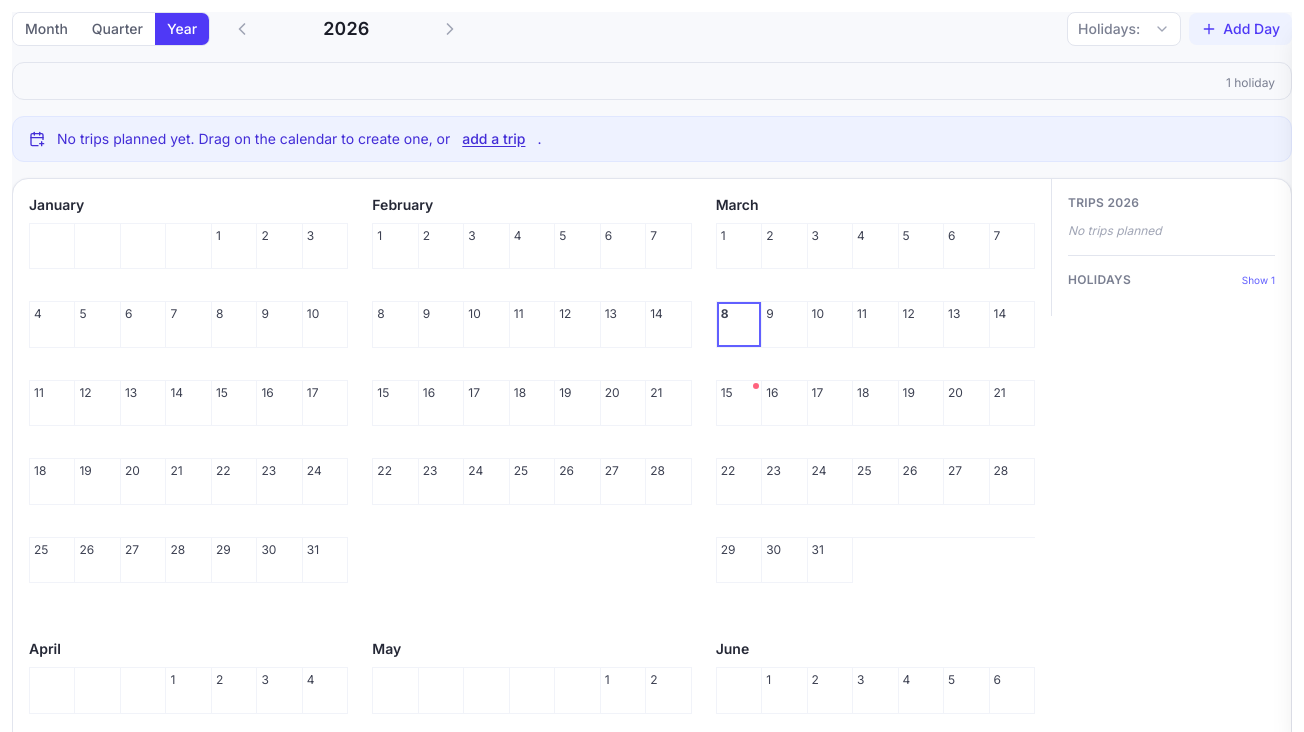
it: PlanningCenterPage › clicking a holiday day opens holiday detail sidebar
The image size is (1304, 732).
Click the button "Quarter": {"x": 117, "y": 29} [80, 13, 155, 45]
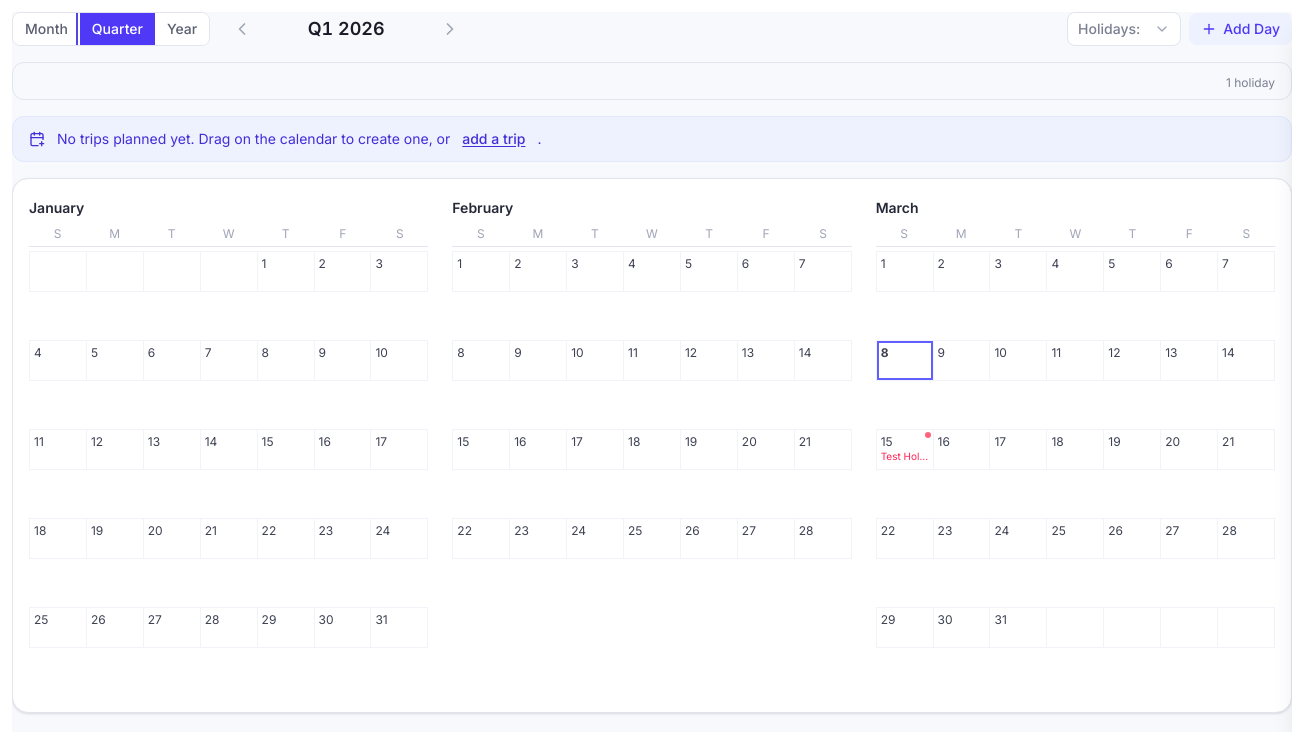
Result: the text "Test Holiday" is shown
// Click the holiday label in the DayCell — triggers onHolidayClick
Click the text "Test Holiday": {"x": 905, "y": 456} [881, 450, 929, 462]
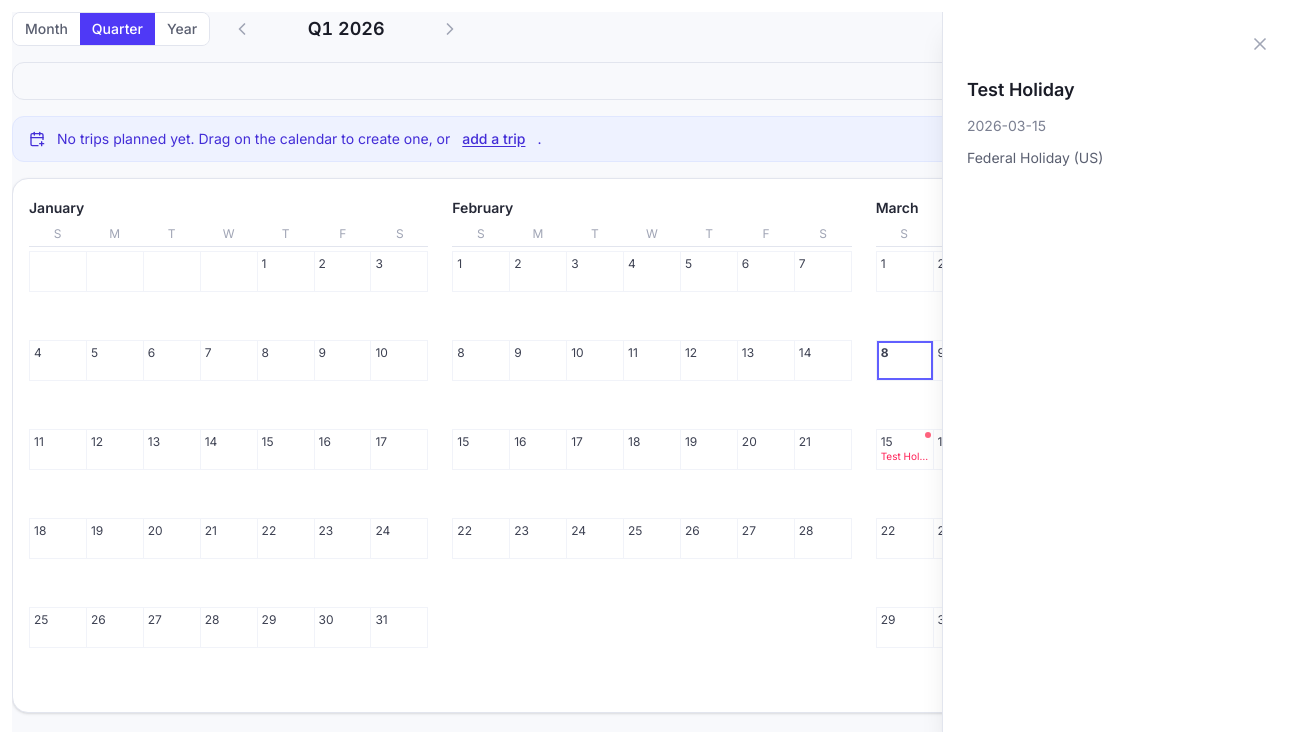
Result: the text "Federal Holiday (US)" is shown at [967, 149, 1103, 166]
